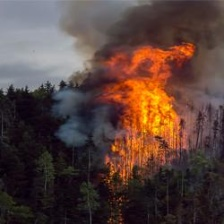fire: (106, 43, 195, 178)
smoke: (78, 1, 216, 49)
